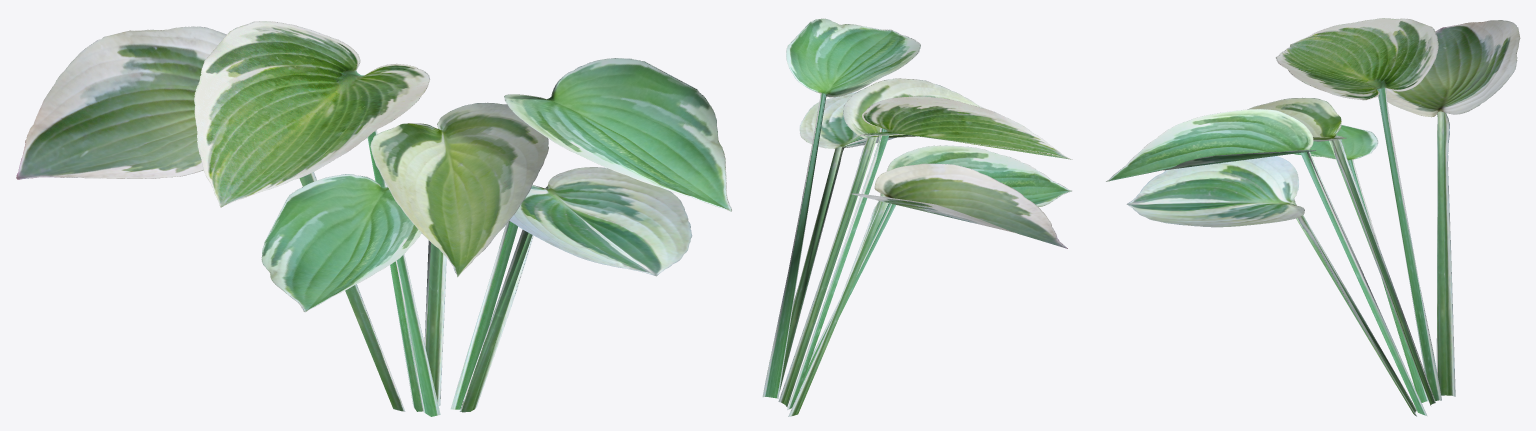
Rendered from plant_small_wg_00_i-corner03.fbx.
The picture shows the model from 3 angles, left to right: view 1: azimuth 30°, elevation 25°; view 2: azimuth 150°, elevation 25°; view 3: azimuth 270°, elevation 25°; orthographic projection. The views are drawn at different scales.
Parts seen in each view (by area): view 1: plant_small_wg_00_i-corner03; view 2: plant_small_wg_00_i-corner03; view 3: plant_small_wg_00_i-corner03.
Boxes of the visible parts, left/top/right/bottom form: plant_small_wg_00_i-corner03: left=16, top=21, right=731, bottom=416; plant_small_wg_00_i-corner03: left=762, top=18, right=1072, bottom=416; plant_small_wg_00_i-corner03: left=1106, top=18, right=1520, bottom=416.
Size of the model in its own units: 38.94 by 30.44 by 37.07.
Materials: 1 (1 with a texture image).
